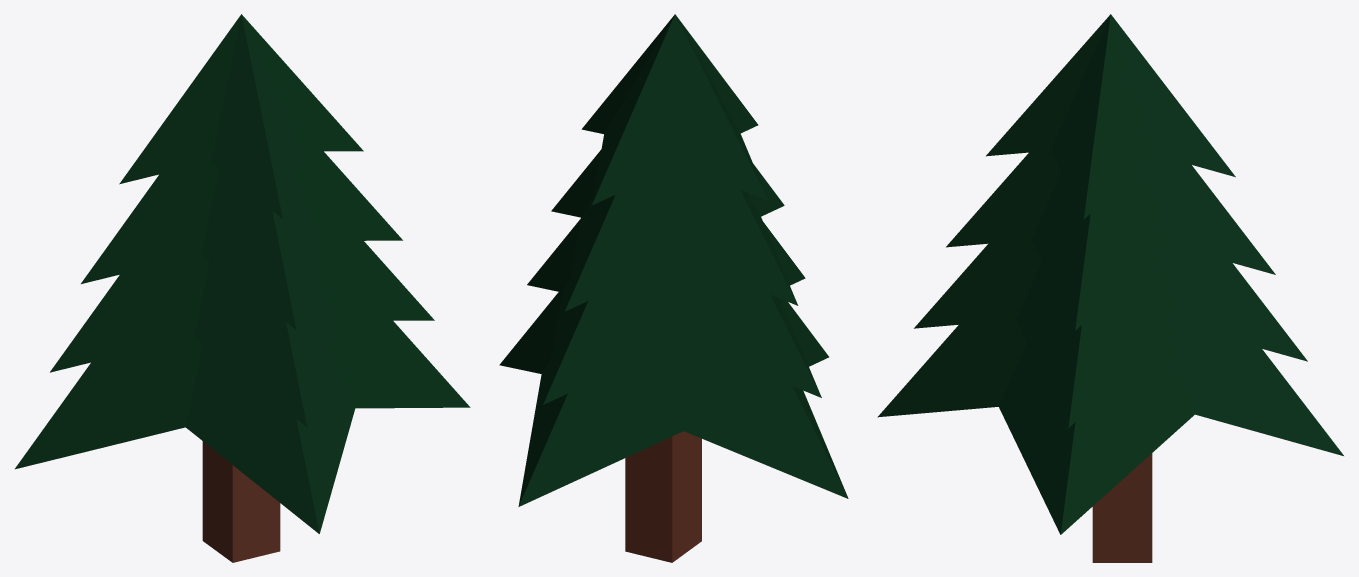
File: tree_02.fbx
3 views of the same model, side by side, from view 1: azimuth 30°, elevation 25°; view 2: azimuth 150°, elevation 25°; view 3: azimuth 270°, elevation 25° (orthographic).
Visible parts, largest first — view 1: tree_02; view 2: tree_02; view 3: tree_02.
Part boxes in pixels (x1,y1,x2,y2): tree_02: [15, 14, 470, 562]; tree_02: [499, 14, 848, 562]; tree_02: [877, 14, 1343, 562].
Size of the model in its own units: 4.46 by 5.65 by 4.48.
